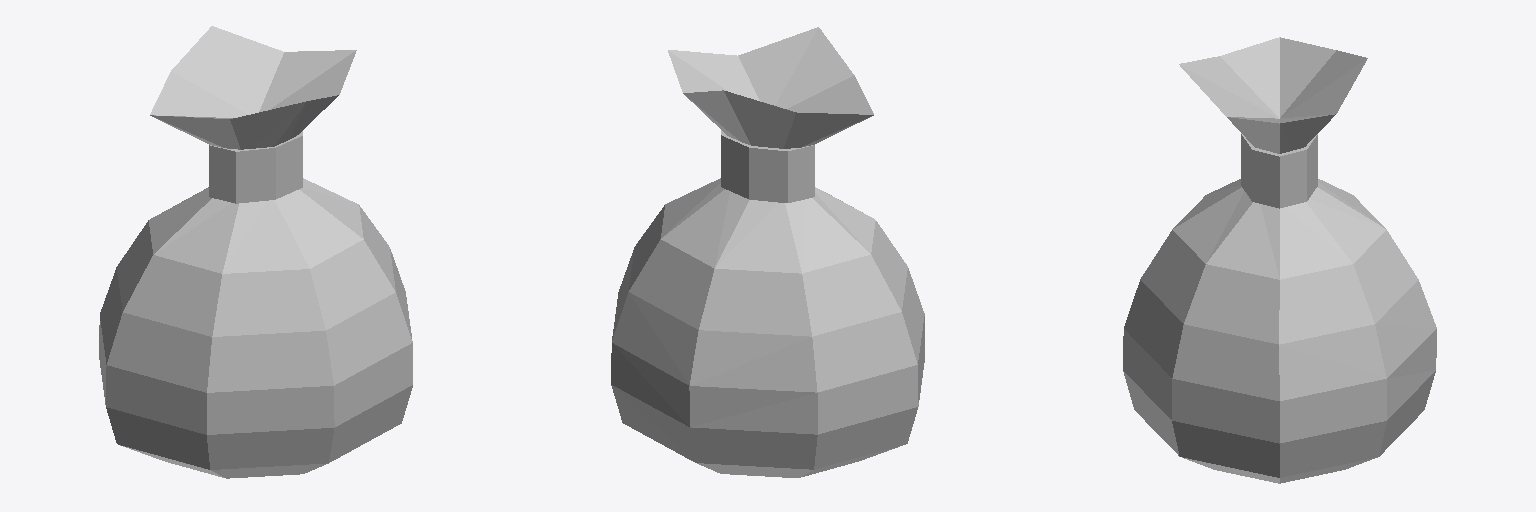
Rendered from Big Bomb Bag.obj.
The picture shows the model from 3 angles: view 1: azimuth 30°, elevation 25°; view 2: azimuth 150°, elevation 25°; view 3: azimuth 270°, elevation 25°; orthographic projection.
Parts seen in each view (by area): view 1: bigbag_pouch_geom-001BB715, bigbag_ring_geom-00F96FC5; view 2: bigbag_pouch_geom-001BB715, bigbag_ring_geom-00F96FC5; view 3: bigbag_pouch_geom-001BB715, bigbag_ring_geom-00F96FC5.
Part boxes in pixels (left/top/right/bottom): bigbag_pouch_geom-001BB715: left=99, top=26, right=412, bottom=478; bigbag_ring_geom-00F96FC5: left=209, top=131, right=302, bottom=203; bigbag_pouch_geom-001BB715: left=611, top=27, right=924, bottom=477; bigbag_ring_geom-00F96FC5: left=721, top=130, right=814, bottom=202; bigbag_pouch_geom-001BB715: left=1123, top=37, right=1436, bottom=483; bigbag_ring_geom-00F96FC5: left=1241, top=133, right=1317, bottom=208.
Bounding box in the file's own units: 0.5128 × 0.6449 × 0.464.